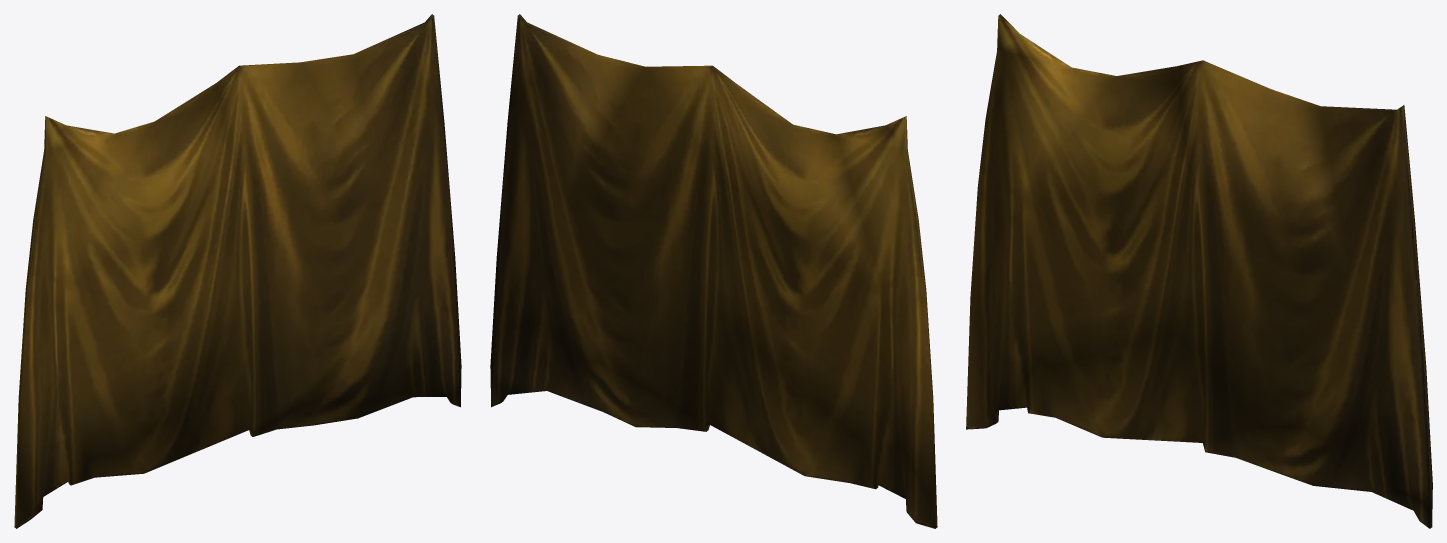
File: KM_VOB_CURTAIN_05.glb
3 renders of one model, left to right at view 1: azimuth 30°, elevation 25°; view 2: azimuth 150°, elevation 25°; view 3: azimuth 330°, elevation 25°, orthographic. The views are drawn at different scales.
Parts seen in each view (by area): view 1: Mesh; view 2: Mesh; view 3: Mesh.
Part boxes in pixels (box(x1,y1,x2,y2)): Mesh: box(14, 14, 461, 528); Mesh: box(490, 14, 937, 528); Mesh: box(966, 14, 1432, 528).
Size of the model in its own units: 2.6 by 2.3 by 0.1053.
1 material, 1 textured.
